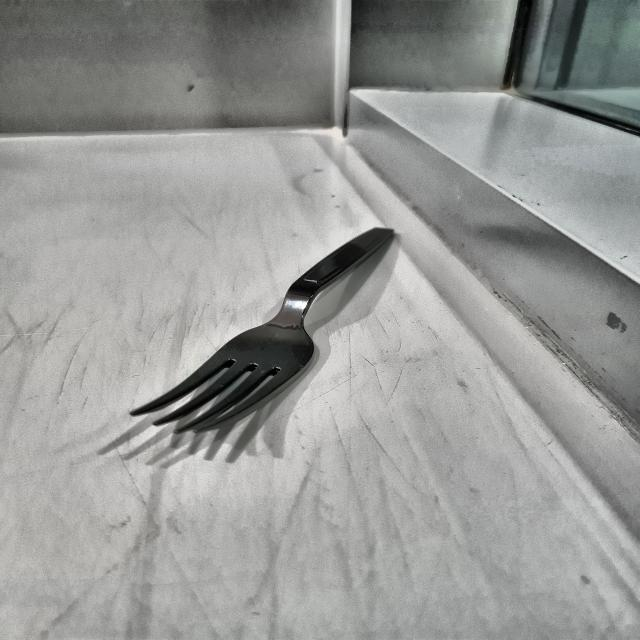plastic utensil: (125, 226, 401, 445)
